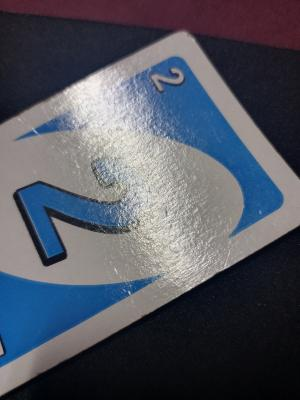num_2: (144, 65, 189, 98)
